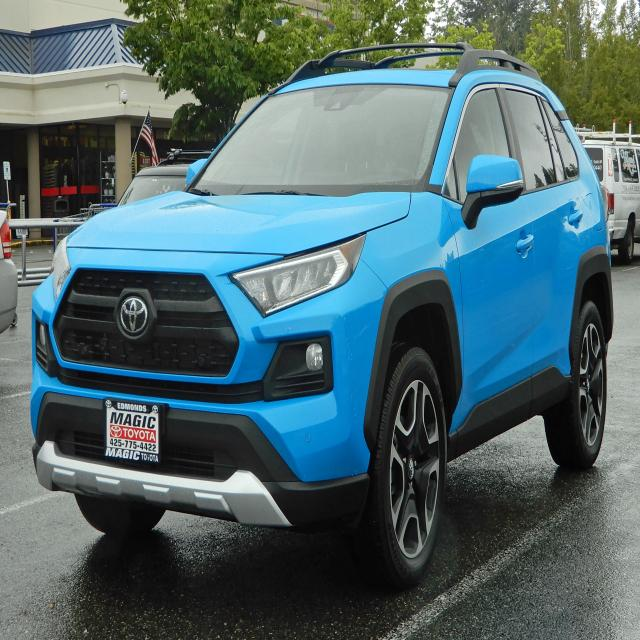light_vehicle: (28, 42, 613, 591)
